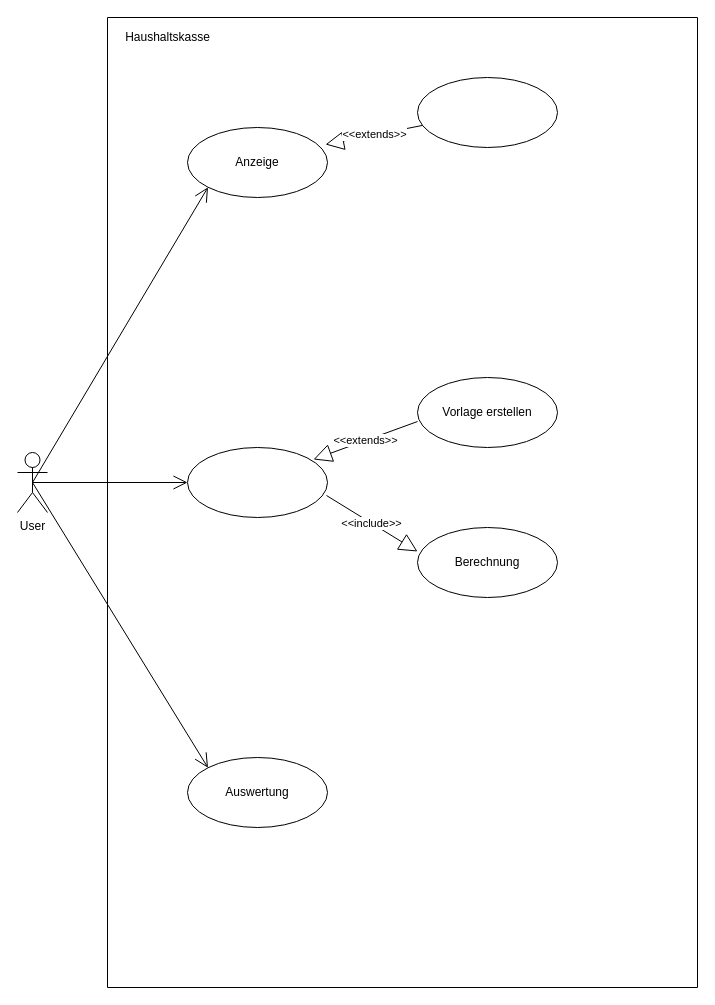
This 715x1005 diagram has some shape labels left out. Each missing label, with the centre of its shape:
Erfassung: point 257,482
Sortierung: point 487,112
